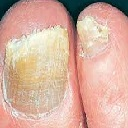Nail Fungal Infection: (3, 25, 73, 72), (84, 13, 112, 41)
